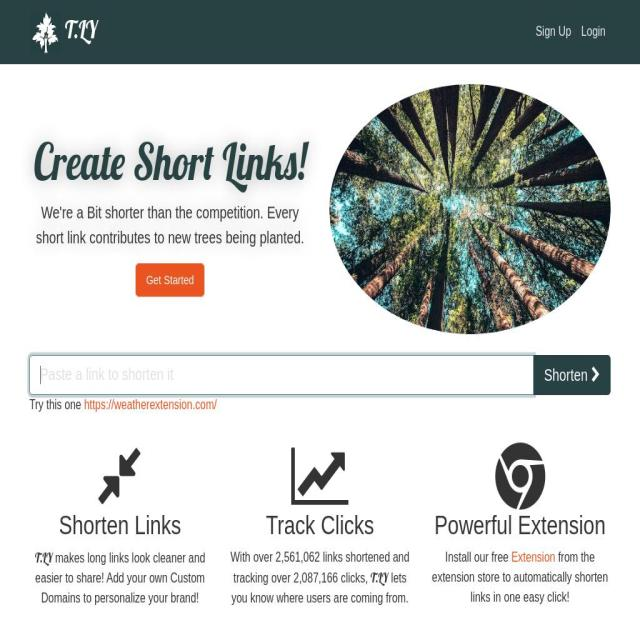button: (29, 7, 98, 58), (533, 354, 611, 395), (135, 262, 205, 296), (84, 396, 218, 412)
field: (29, 354, 534, 395)
heading: (29, 137, 310, 185), (228, 508, 410, 541), (428, 508, 610, 541), (29, 508, 210, 541)
image: (330, 83, 610, 334), (30, 11, 60, 53)
link: (511, 549, 556, 564), (535, 24, 571, 39), (580, 24, 606, 39)
text: (29, 199, 310, 250), (431, 549, 608, 604), (35, 550, 206, 605), (230, 549, 409, 585), (232, 570, 409, 605), (61, 13, 98, 45), (445, 549, 512, 564), (544, 365, 592, 384), (29, 396, 84, 412), (34, 548, 52, 566), (371, 568, 388, 586)
